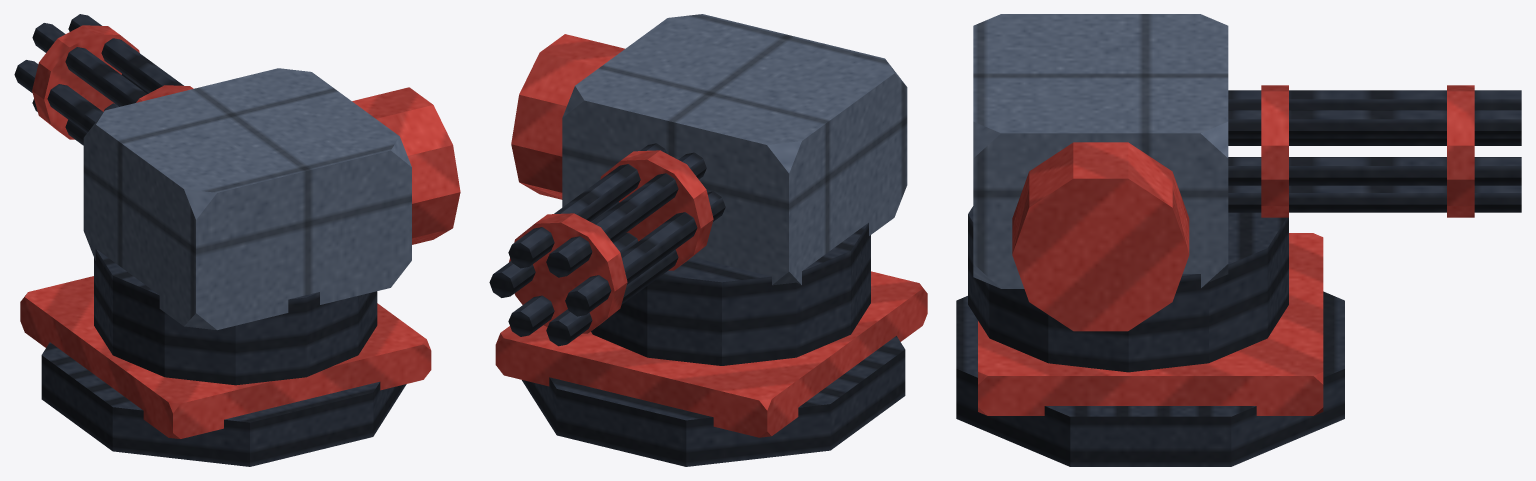
File: eq_machine_gun.glb
3 renders of one model, left to right at view 1: azimuth 30°, elevation 25°; view 2: azimuth 150°, elevation 25°; view 3: azimuth 270°, elevation 25°, orthographic. The views are drawn at different scales.
Visible parts, largest first — view 1: eq_machine_gun; view 2: eq_machine_gun; view 3: eq_machine_gun.
Boxes of the visible parts, bbox=[...] form: eq_machine_gun: bbox=[14, 14, 460, 466]; eq_machine_gun: bbox=[489, 14, 927, 466]; eq_machine_gun: bbox=[956, 14, 1521, 466].
Bounding box in the file's own units: 1.52 × 1.24 × 2.04.
Materials: 1 (1 with a texture image).
